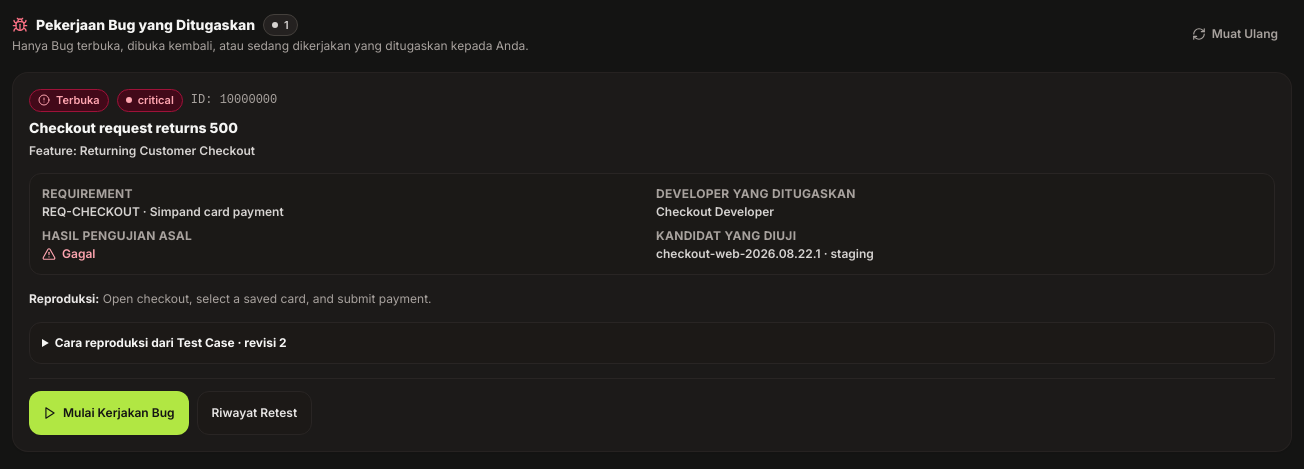
BugExperiencePanel › loads only the assigned Developer work queue and starts an open Bug
Click the button with aria-label "Mulai pengerjaan Bug: Checkout request returns 500". click: x=109, y=413
box: x1=29 y1=391 x2=188 y2=435
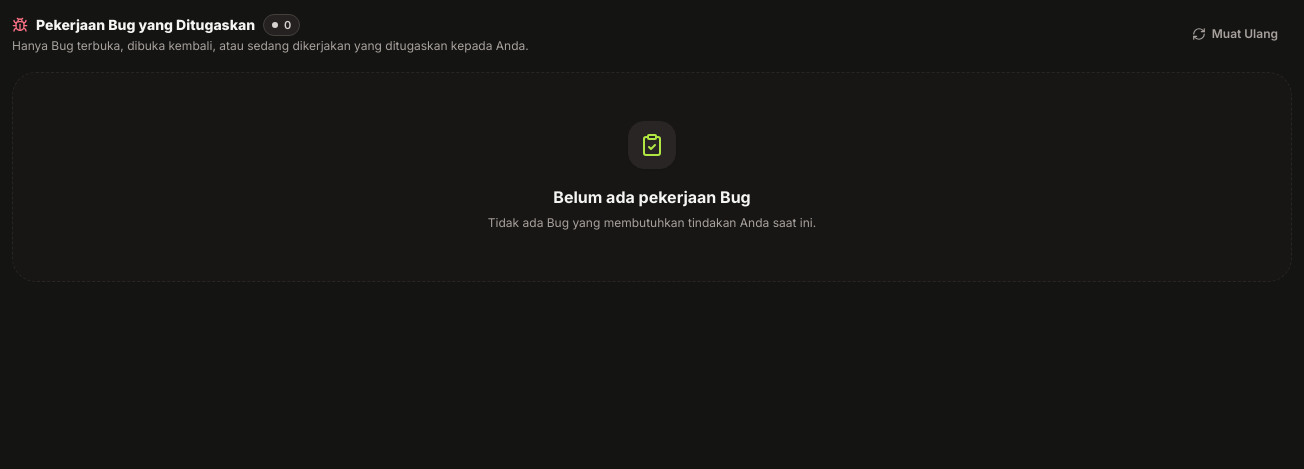
Result: the heading "Belum ada pekerjaan Bug" is shown at x1=553 y1=185 x2=751 y2=209
